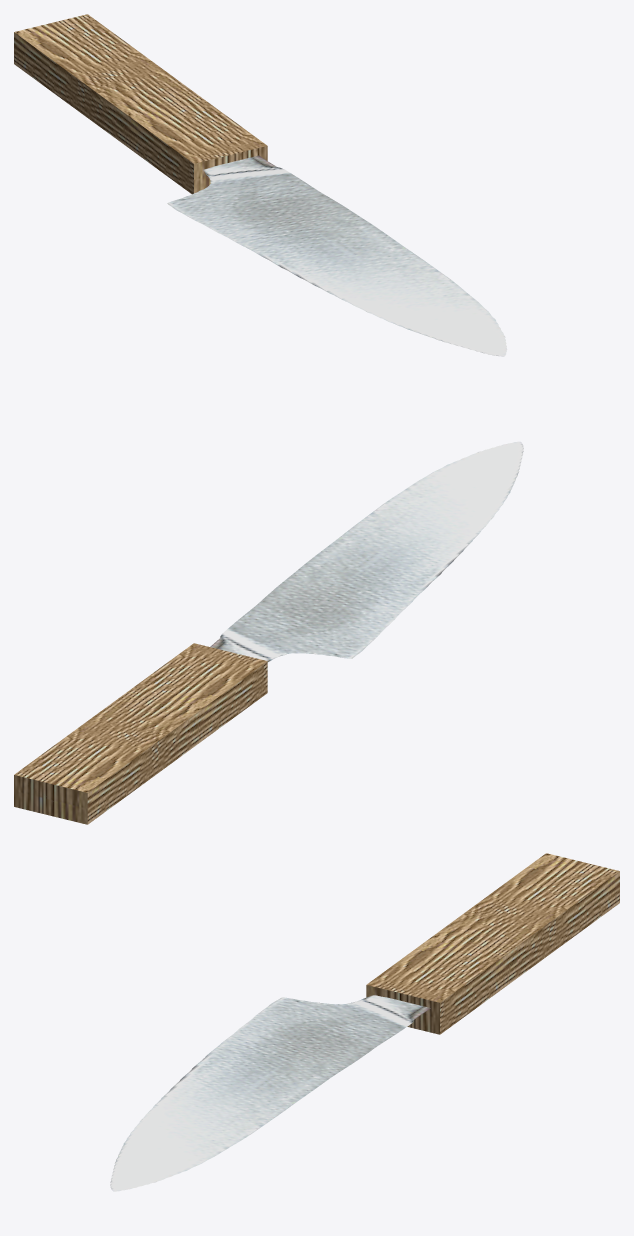
Rendered from Cuchillo.fbx.
3 renders of one model, top to bottom at view 1: azimuth 30°, elevation 25°; view 2: azimuth 150°, elevation 25°; view 3: azimuth 330°, elevation 25°, orthographic.
Parts seen in each view (by area): view 1: Cube.033; view 2: Cube.033; view 3: Cube.033.
Part boxes in pixels (x1=…): Cube.033: x1=14, y1=14, x2=507, y2=356; Cube.033: x1=14, y1=441, x2=523, y2=824; Cube.033: x1=110, y1=853, x2=619, y2=1191.
Bounding box in the file's own units: 138 × 24.57 × 539.
Materials: 2 (2 with a texture image).
